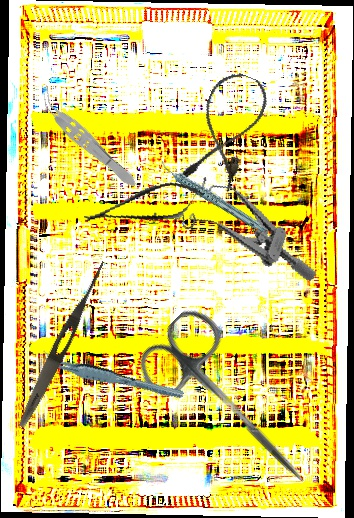Cannula: (178, 65, 274, 195)
Dressing Forceps: (14, 257, 110, 431)
Handpiece: (158, 141, 267, 252)
Iris Scissors: (128, 300, 339, 512)
Micro Scissor: (80, 175, 207, 236)
Speculum: (167, 171, 336, 283)
Tissue Forceps: (32, 88, 143, 193), (39, 338, 185, 415)
